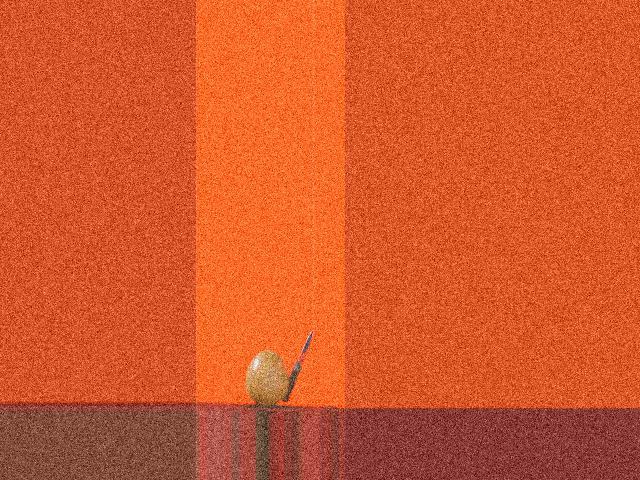egg: (246, 351, 288, 405)
